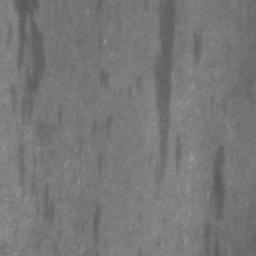Inclusion: (154, 0, 175, 165), (17, 0, 46, 93), (214, 147, 227, 211)
